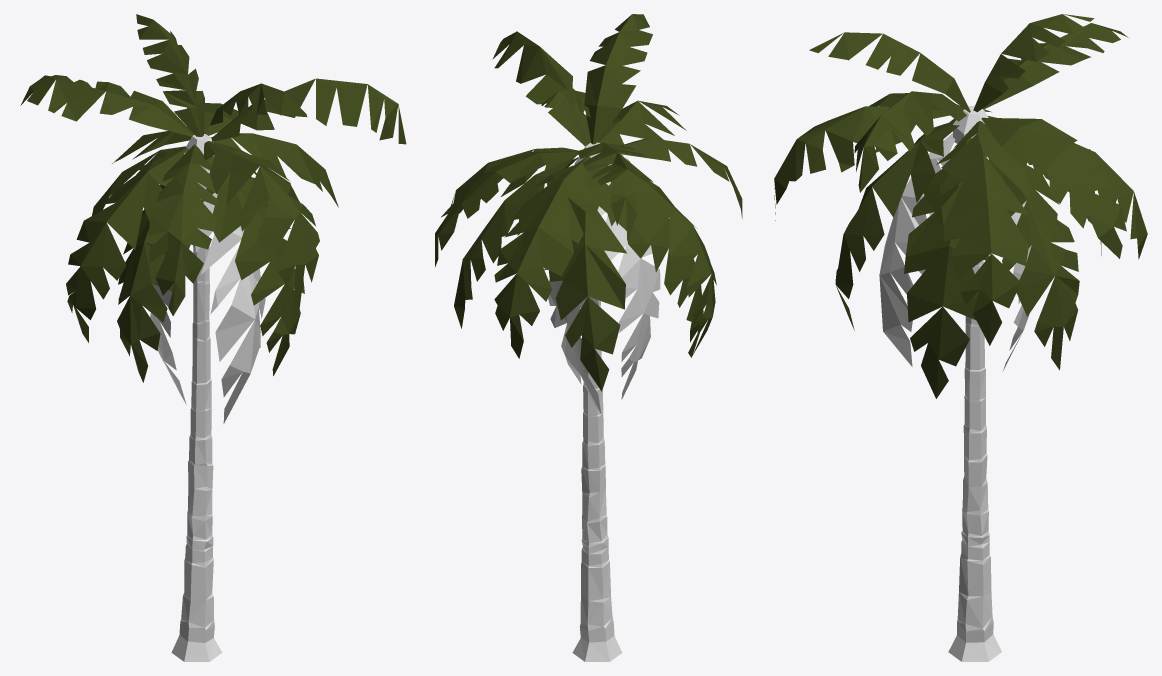
Rendered from tree-palm-withered-a.gltf.
The picture shows the model from 3 angles, left to right: view 1: azimuth 30°, elevation 25°; view 2: azimuth 150°, elevation 25°; view 3: azimuth 270°, elevation 25°; orthographic projection. The views are drawn at different scales.
Parts seen in each view (by area): view 1: tree-palm-withered-a; view 2: tree-palm-withered-a; view 3: tree-palm-withered-a.
Part boxes in pixels (left/top/right/bottom): tree-palm-withered-a: left=20, top=14, right=406, bottom=661; tree-palm-withered-a: left=435, top=14, right=742, bottom=661; tree-palm-withered-a: left=774, top=14, right=1147, bottom=661.
Bounding box in the file's own units: 0.0372 × 0.0782 × 0.0416.
